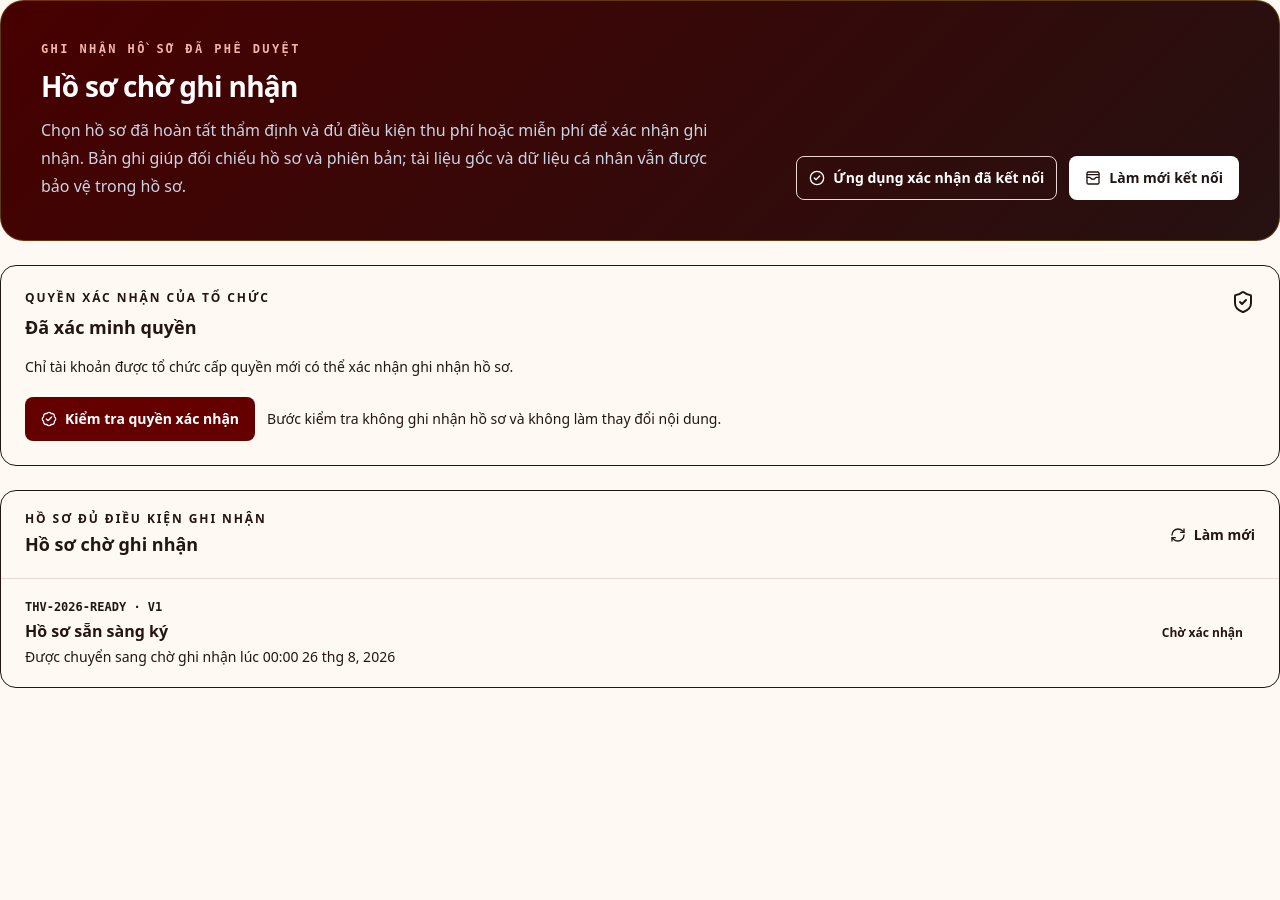
Test: BlockchainSigningWorkspace › shows a pending status after the user confirms a record
This screenshot has width=1280, height=900.
Click the button "Hồ sơ sẵn sàng ký" at point(76, 607), box x1=1 y1=579 x2=1279 y2=687
(page scrolled)
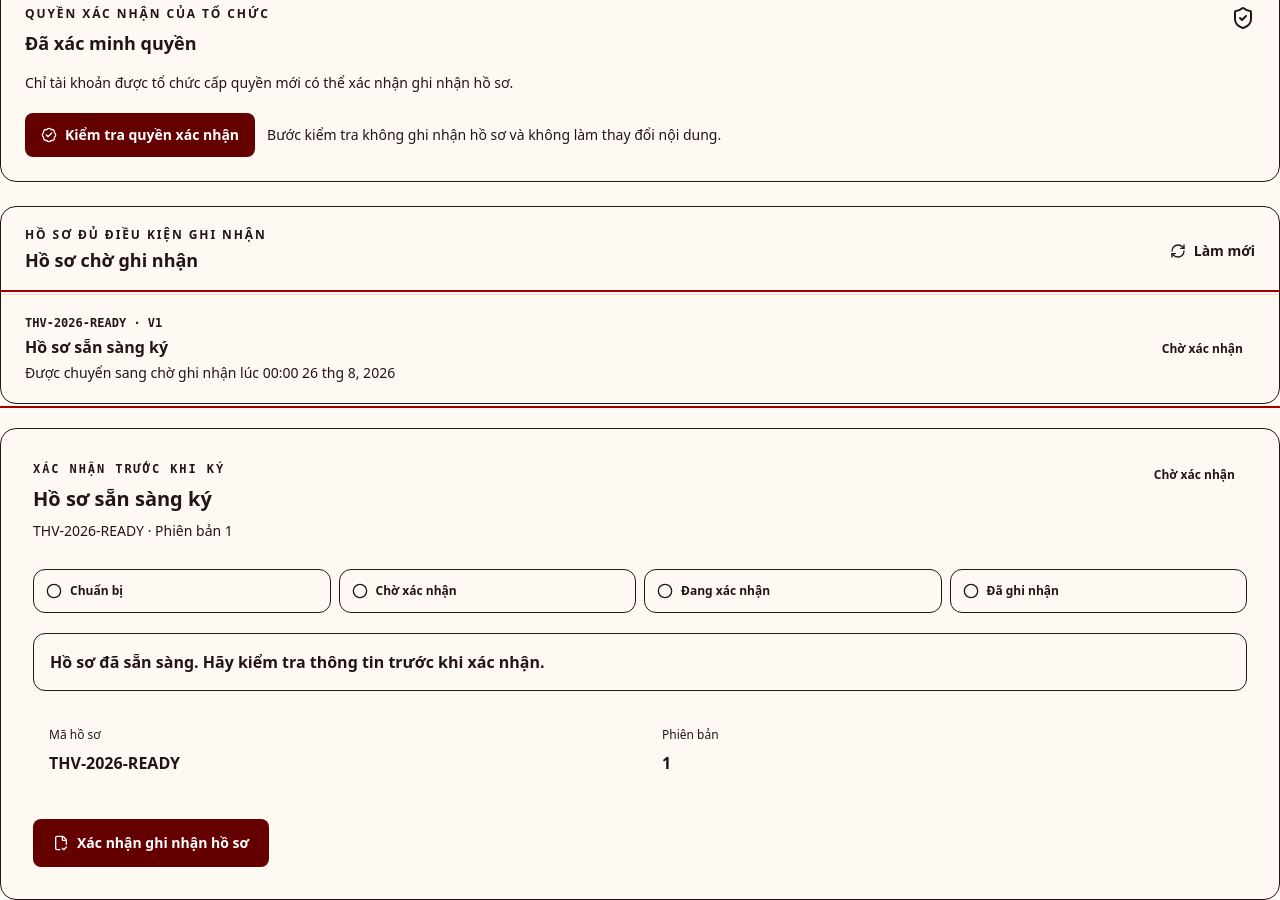
Click the button "Xác nhận ghi nhận hồ sơ" at point(151, 843), box x1=33 y1=819 x2=269 y2=867
(page scrolled)
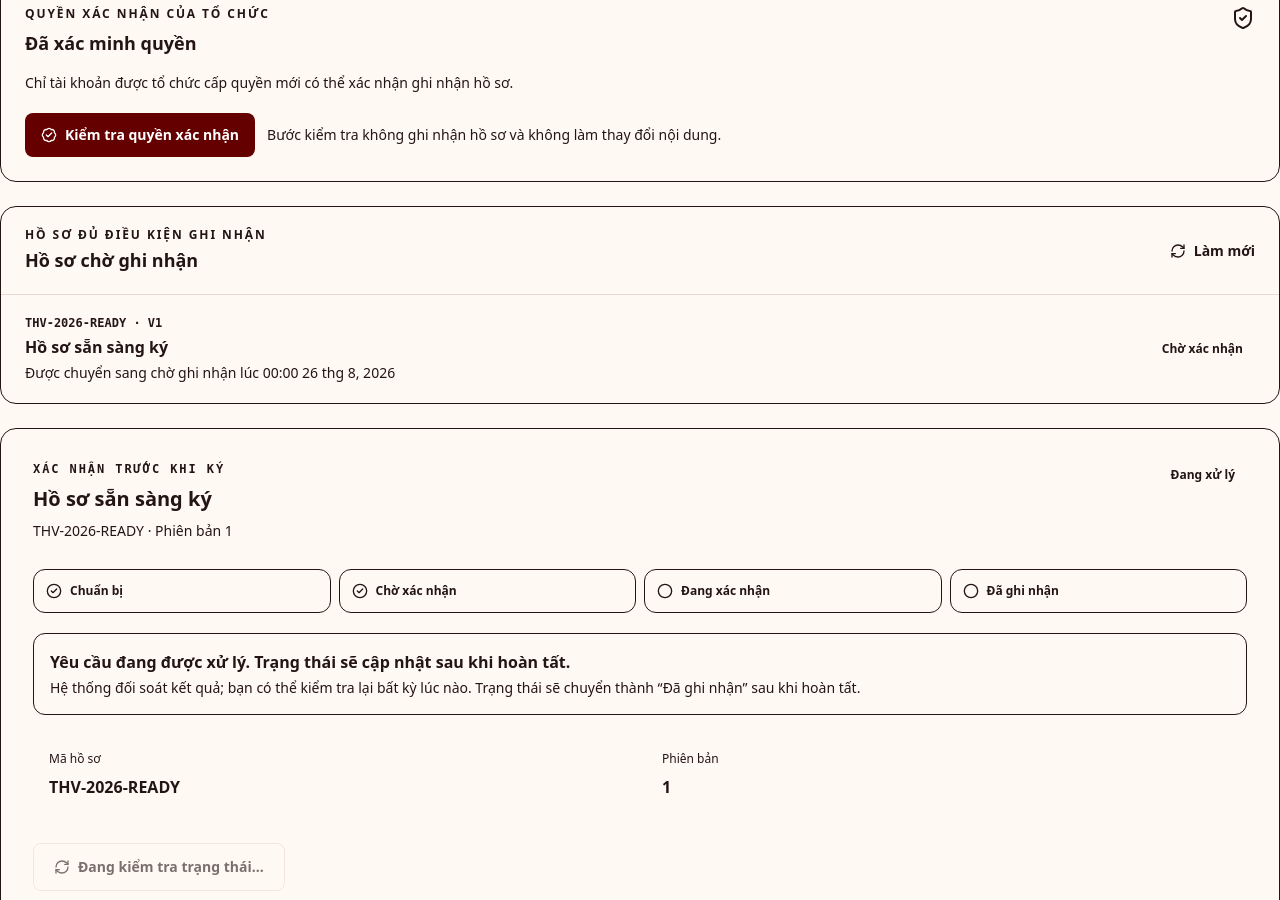
Result: the text "Đang xử lý" is shown at x1=1171 y1=466 x2=1235 y2=483
